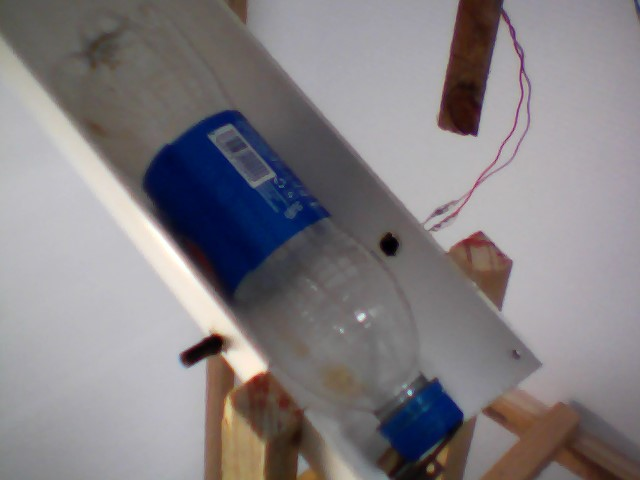plastico: (31, 1, 469, 464)
